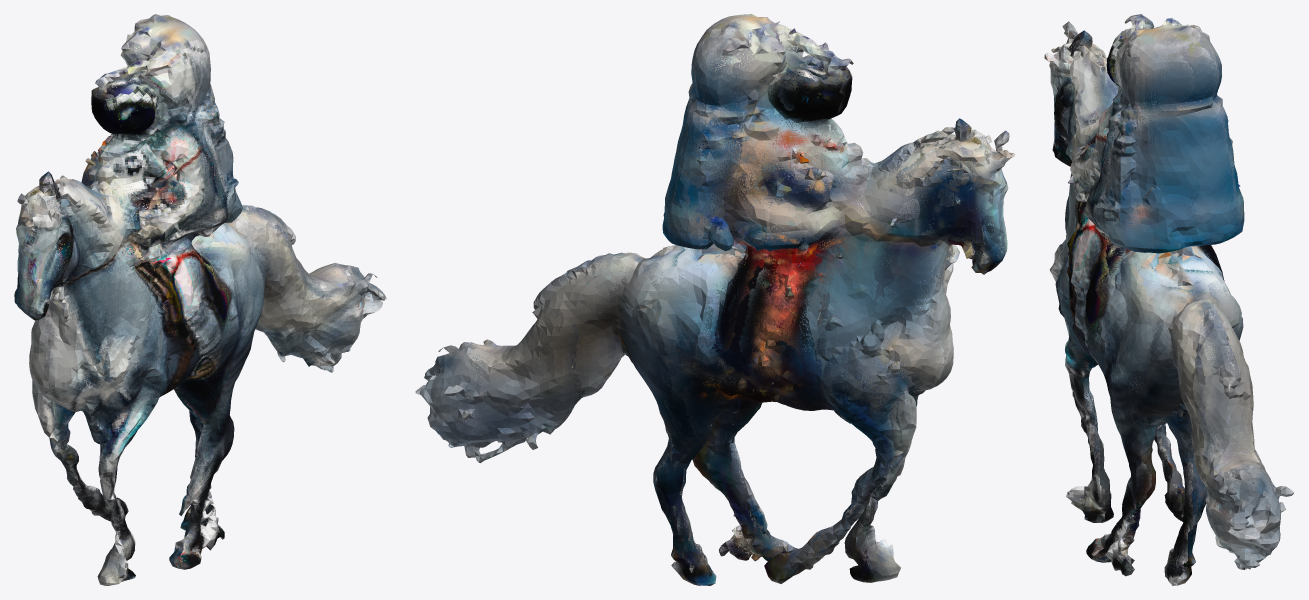
The model's file is astronaut_010.glb.
3 views of the same model, side by side, from view 1: azimuth 30°, elevation 25°; view 2: azimuth 150°, elevation 25°; view 3: azimuth 270°, elevation 25° (orthographic). The views are drawn at different scales.
Size of the model in its own units: 1.24 by 1.36 by 0.5746.
1 material, 1 textured.
